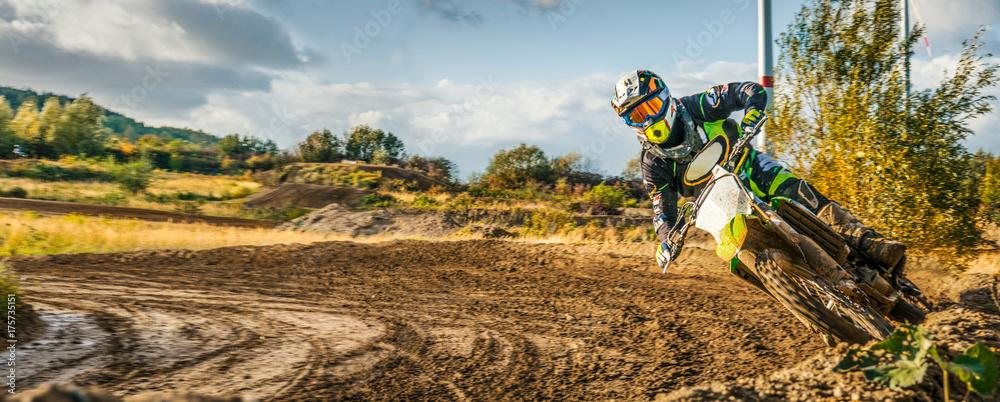helmet: (610, 69, 679, 145)
